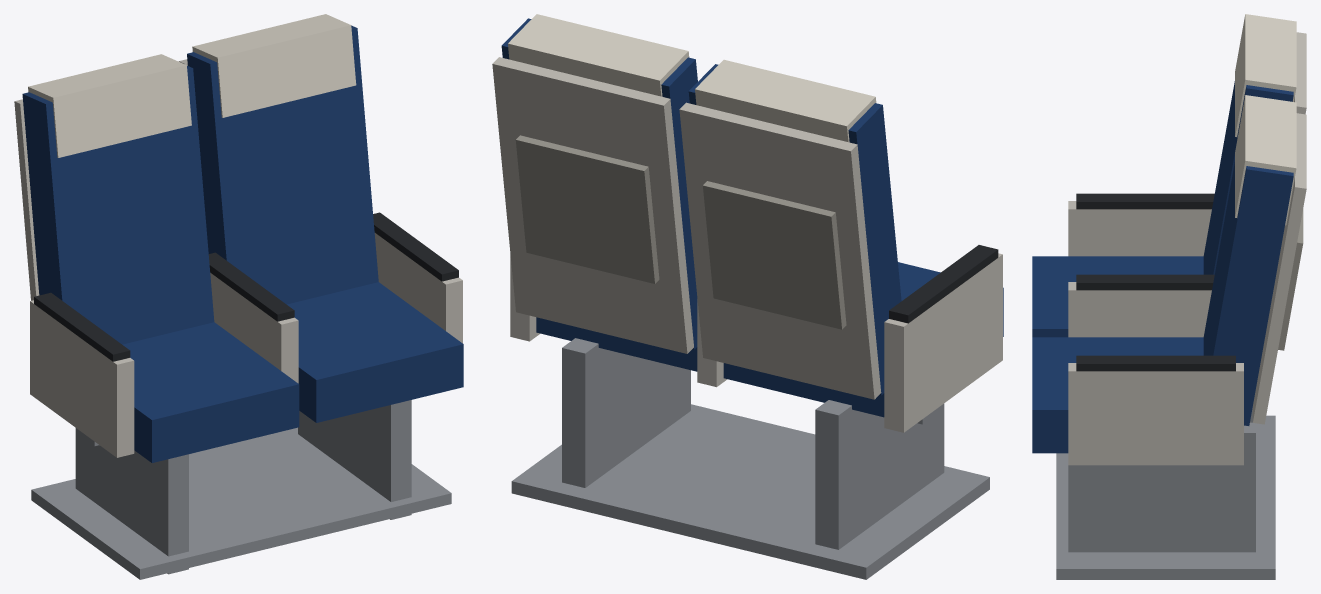
Rendered from ac_economy_pair.glb.
3 renders of one model, left to right at view 1: azimuth 30°, elevation 25°; view 2: azimuth 150°, elevation 25°; view 3: azimuth 270°, elevation 25°, orthographic. The views are drawn at different scales.
Parts seen in each view (by area): view 1: ac_economy_pair; view 2: ac_economy_pair; view 3: ac_economy_pair.
Boxes of the visible parts, x1=… form: ac_economy_pair: x1=14, y1=14, x2=463, y2=579; ac_economy_pair: x1=492, y1=14, x2=1003, y2=579; ac_economy_pair: x1=1032, y1=14, x2=1306, y2=579.
Bounding box in the file's own units: 1.01 × 1.17 × 0.6874.
